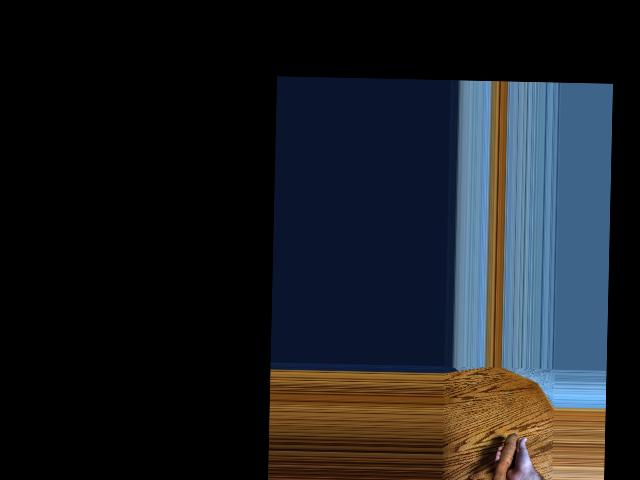sweet_potato: (488, 432, 519, 480)
